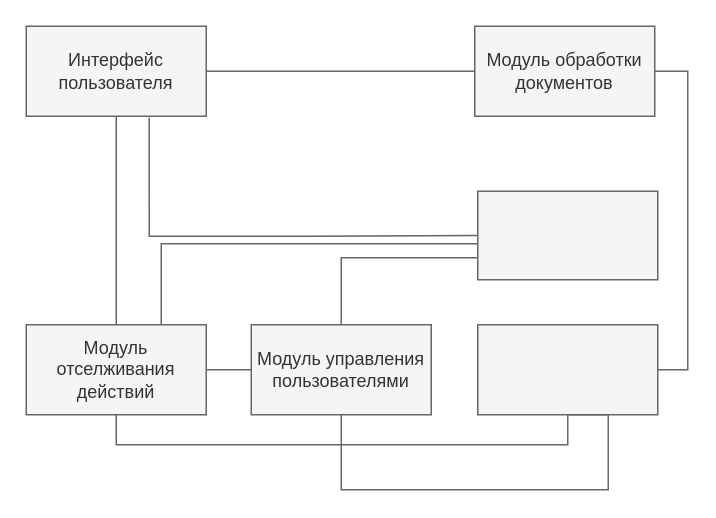
This 716x518 diagram has some shape labels left out. Here are the shapes that lost their labels. From the top down, the centre of each, then its label:
At (x=567, y=235): "Модули вывода".
At (x=567, y=369): "База знаний".
